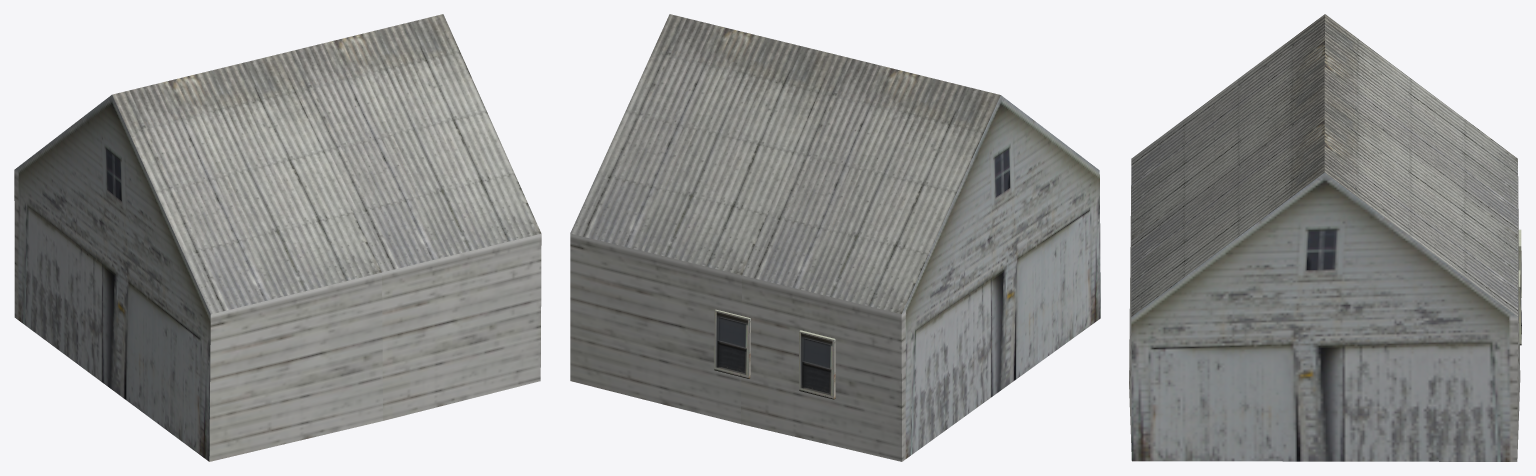
The model's file is barn03_elements_0.001.glb.
3 renders of one model, left to right at view 1: azimuth 30°, elevation 25°; view 2: azimuth 150°, elevation 25°; view 3: azimuth 270°, elevation 25°, orthographic. The views are drawn at different scales.
Visible parts, largest first — view 1: barn03_elements_0.004; view 2: barn03_elements_0.004; view 3: barn03_elements_0.004.
Part boxes in pixels (left/top/right/bottom): barn03_elements_0.004: left=14, top=14, right=541, bottom=461; barn03_elements_0.004: left=570, top=14, right=1100, bottom=461; barn03_elements_0.004: left=1129, top=14, right=1521, bottom=461.
Size of the model in its own units: 6.58 by 5.56 by 6.85.
Materials: 1 (1 with a texture image).
